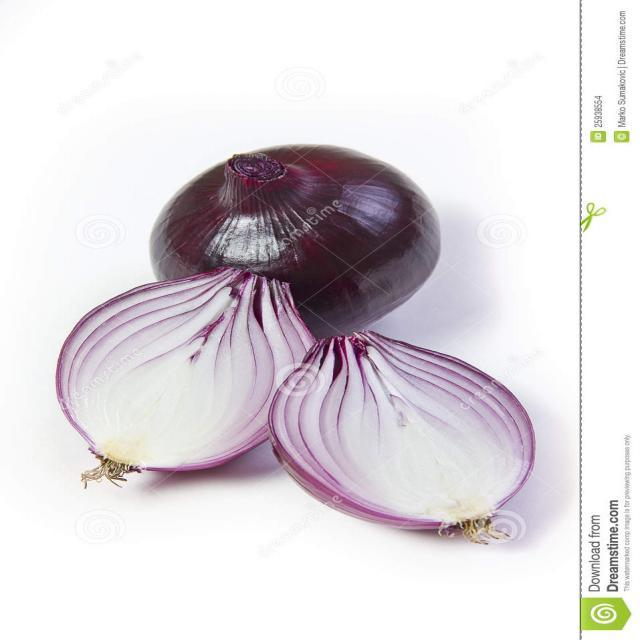onion: (148, 137, 443, 337), (56, 270, 323, 486), (277, 328, 544, 543)
